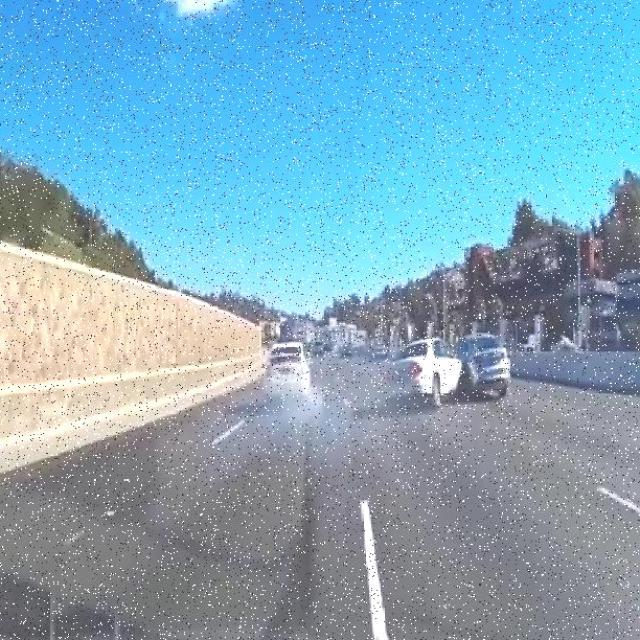accident: (382, 331, 512, 409)
